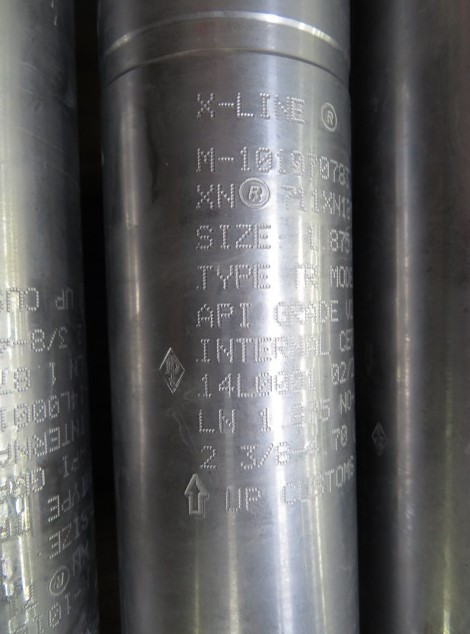character: (185, 88, 218, 124), (230, 91, 256, 124), (251, 220, 274, 252), (215, 181, 237, 213), (215, 408, 240, 436), (195, 444, 220, 471), (251, 262, 272, 294), (215, 300, 236, 332), (214, 262, 234, 295), (214, 336, 236, 366), (233, 371, 255, 401), (222, 485, 244, 514), (194, 302, 215, 332), (195, 144, 215, 175), (254, 406, 276, 434), (237, 442, 258, 471), (254, 146, 274, 176), (287, 95, 305, 128), (214, 372, 236, 399), (195, 407, 216, 435), (216, 218, 233, 252), (196, 263, 215, 293), (194, 338, 213, 368), (193, 183, 213, 211), (254, 370, 274, 398), (254, 334, 273, 363), (241, 486, 260, 515), (237, 301, 254, 333), (234, 337, 254, 364), (280, 480, 298, 510), (289, 403, 308, 431), (194, 224, 215, 249), (286, 332, 304, 361), (196, 372, 214, 400), (235, 220, 251, 251), (272, 91, 289, 120), (257, 89, 273, 119), (288, 149, 305, 177), (235, 261, 249, 295), (273, 334, 290, 362), (236, 145, 252, 173), (275, 441, 291, 468), (273, 370, 290, 395), (274, 301, 289, 328), (289, 368, 304, 395), (305, 437, 322, 460), (289, 302, 305, 326), (304, 151, 318, 178), (281, 185, 296, 208), (218, 98, 237, 115), (304, 364, 316, 390), (309, 188, 320, 215), (295, 185, 306, 210), (277, 147, 286, 176), (217, 153, 236, 165)
